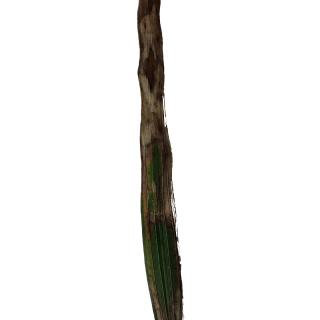Hawar-Daun: (139, 1, 170, 220)
